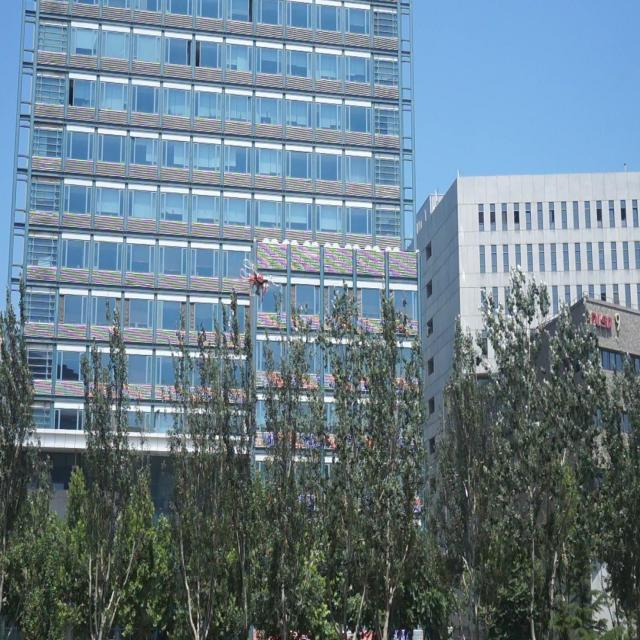UAV: (239, 258, 280, 303)
